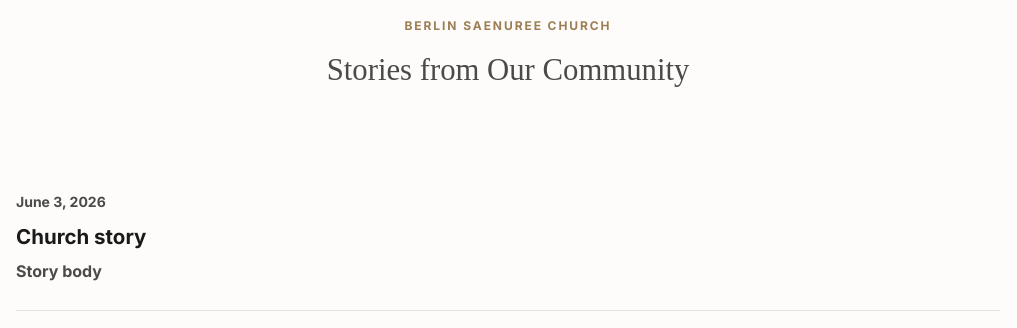
Scenario: Saenuree News public pages › opens a published church story from the list
Click the link "June 3, 2026 Church story Story body" at (81, 237), box top-left (16, 193), bottom-right (146, 281)
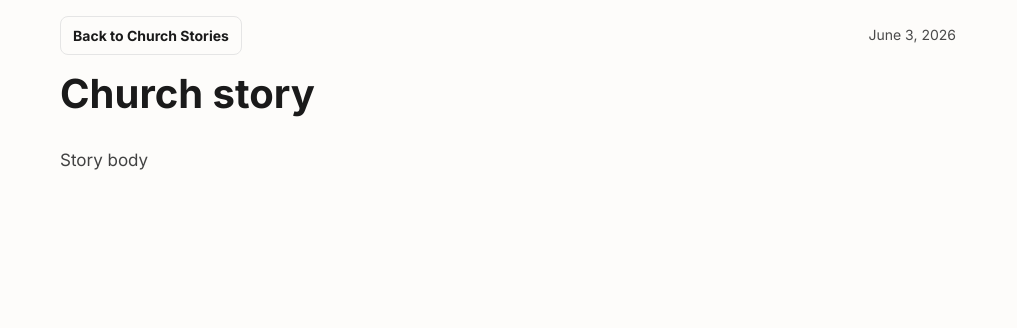
Expected: the text "Story body" is shown, top-left (60, 150), bottom-right (148, 170)
Expected: the link "Back to Church Stories" is shown, top-left (60, 16), bottom-right (242, 55)
